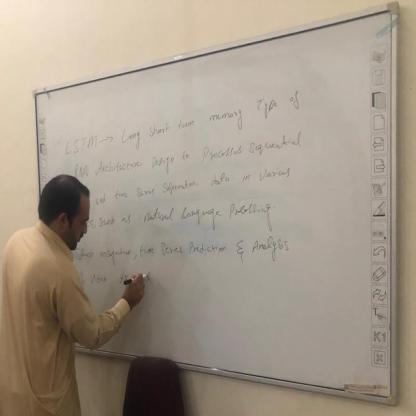Handwritten text: (50, 79, 315, 162), (64, 128, 313, 189), (88, 163, 300, 208), (85, 197, 284, 235), (88, 235, 299, 268)
Lecturer: (2, 174, 115, 406)
Whiteboard: (24, 3, 400, 414)
